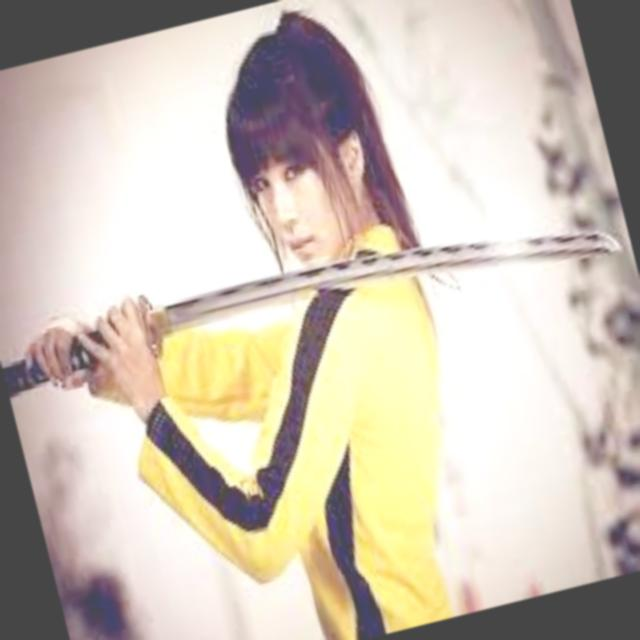long sword: (0, 174, 625, 412)
